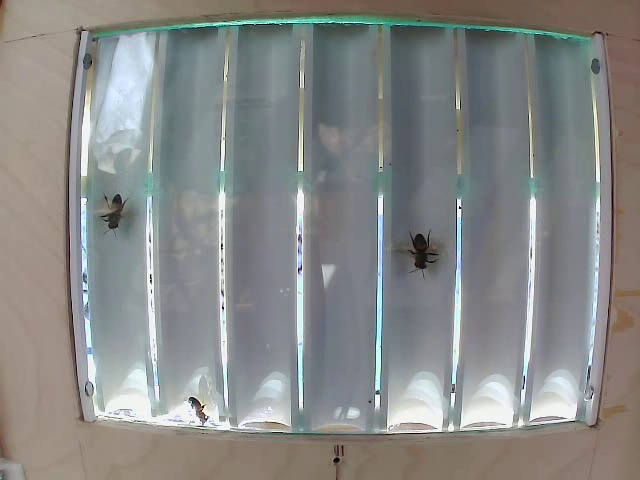bee: (93, 179, 141, 242), (399, 228, 447, 278)
